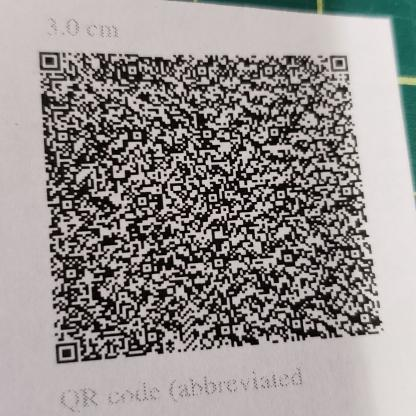qr: (34, 46, 390, 363)
